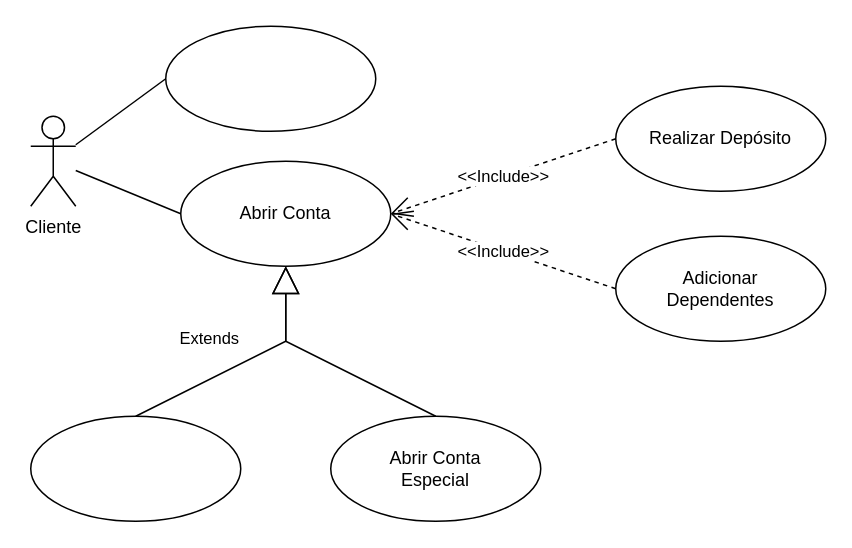
Some shapes in this 852 by 548 pixel diagram are drawn without their labels. The centre of each missing label's shape, as x and y in pixels:
"Abrir Conta Poupança" belongs at [135,468].
"Realizar Saque" belongs at [270,78].
